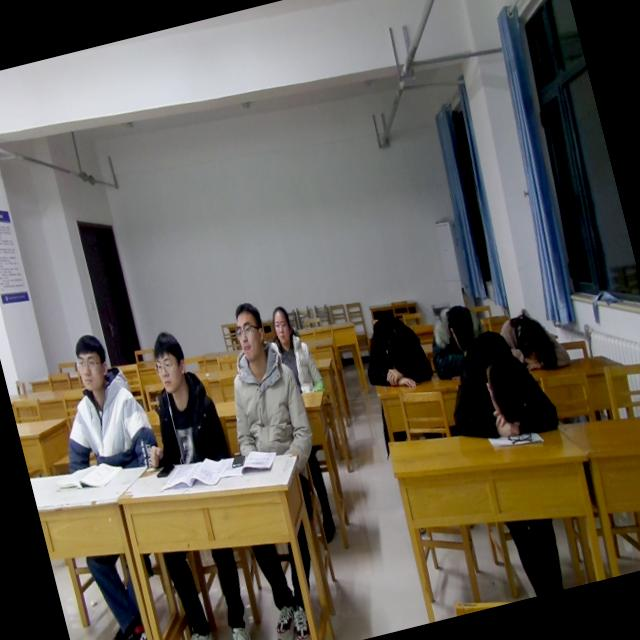bow: (430, 314, 562, 456), (352, 303, 438, 400), (418, 294, 499, 384), (492, 296, 575, 382)
lookup: (62, 323, 114, 398), (143, 324, 195, 398), (223, 296, 272, 370), (264, 298, 297, 352)
sit: (39, 322, 163, 486), (204, 292, 317, 468), (118, 316, 232, 472), (262, 298, 326, 402)
